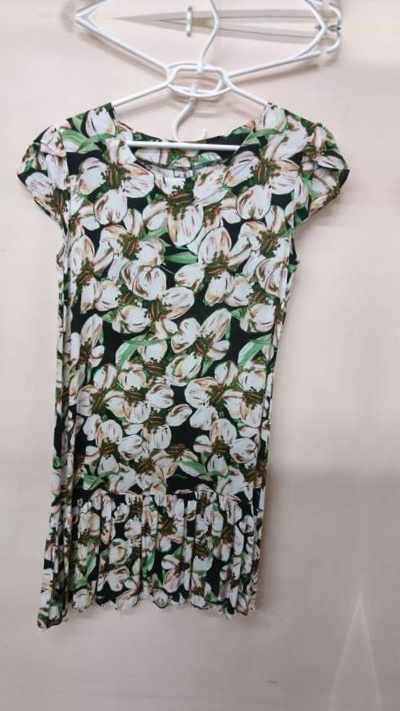Dress: (0, 63, 349, 662), (393, 81, 400, 680)
